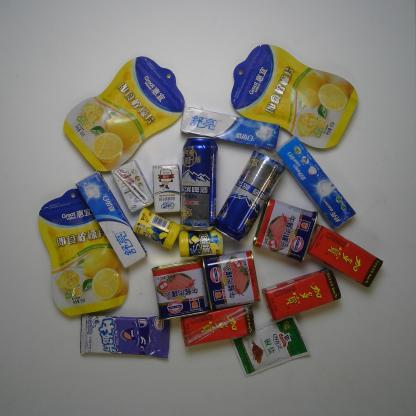Alcohol: (212, 144, 288, 242), (177, 136, 218, 232)
Candy: (77, 314, 171, 360)
Canned Food: (251, 197, 319, 264), (150, 258, 210, 320), (202, 249, 260, 313)
Dried Fruit: (63, 55, 185, 173), (229, 44, 360, 152), (37, 187, 130, 318)
Drink: (307, 222, 384, 289), (261, 268, 343, 320), (180, 301, 257, 348)
Gum: (132, 207, 182, 252), (178, 230, 224, 260)
Milk: (110, 160, 154, 212), (152, 164, 182, 214)
Personal Hygiene: (274, 134, 358, 230), (74, 171, 148, 269), (180, 106, 281, 153)
Seasoner: (227, 314, 311, 378)
